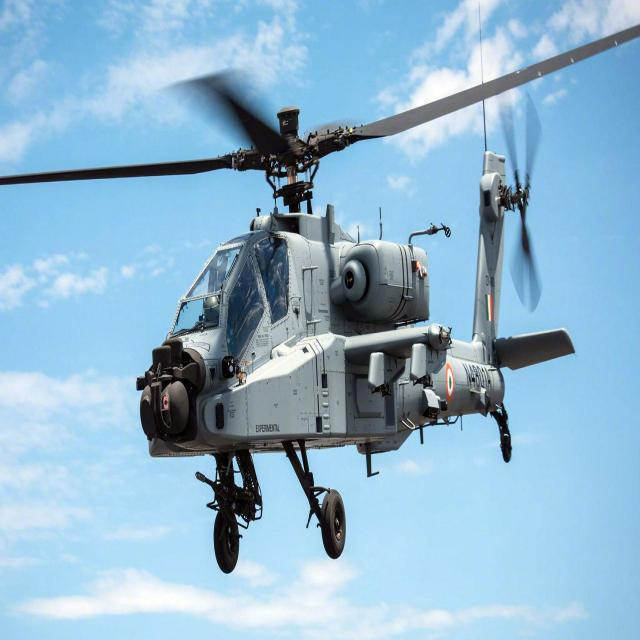MIL_HELO: (32, 16, 640, 574)
